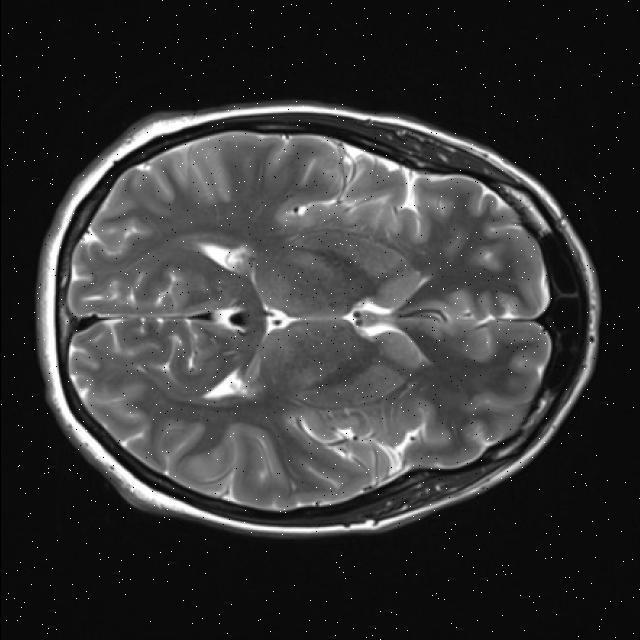No_Tumor: (37, 103, 599, 536)
